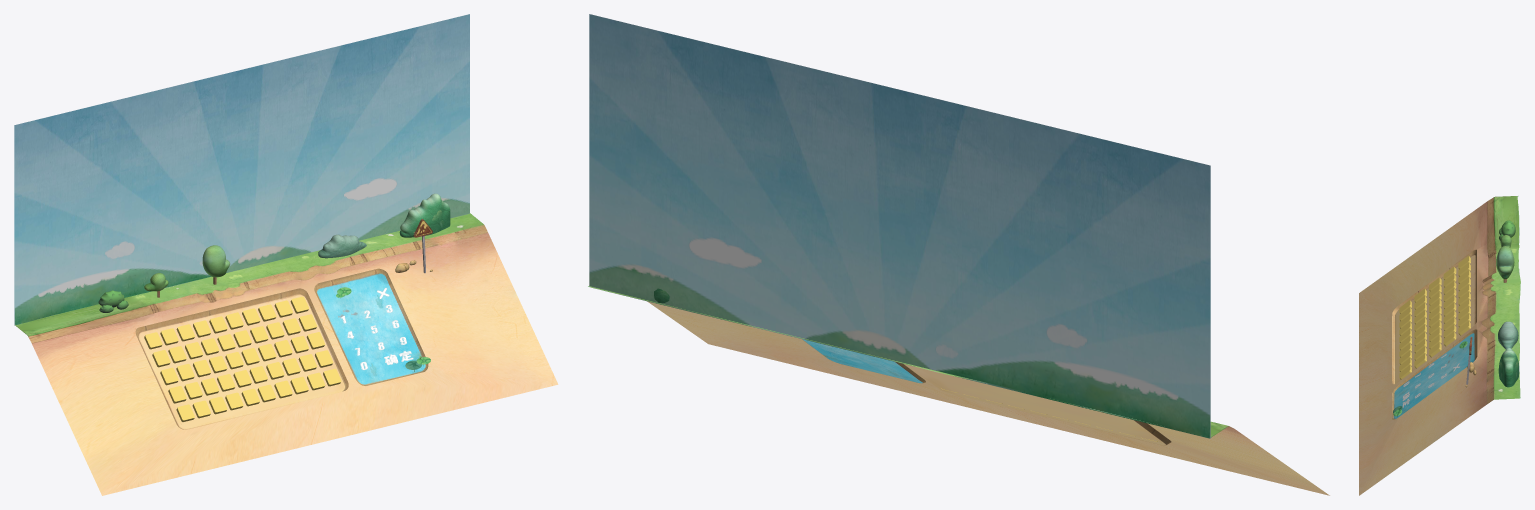
File: shuziban.FBX
3 views of the same model, side by side, from view 1: azimuth 30°, elevation 25°; view 2: azimuth 150°, elevation 25°; view 3: azimuth 270°, elevation 25° (orthographic). The views are drawn at different scales.
Visible parts, largest first — view 1: 对象280, Cylinder001, 对象285, 对象284, 对象283; view 2: 对象280, Cylinder001; view 3: Cylinder001, 对象285, 对象283, 对象284, 对象281.
Boxes of the visible parts, box(x1,y1,x2,y2) form: 对象280: box(14, 14, 469, 325); Cylinder001: box(15, 213, 558, 495); 对象285: box(399, 193, 450, 237); 对象284: box(318, 234, 366, 258); 对象283: box(202, 245, 229, 284); 对象280: box(589, 14, 1210, 438); Cylinder001: box(588, 286, 1329, 495); Cylinder001: box(1359, 196, 1520, 495); 对象285: box(1498, 348, 1519, 387); 对象283: box(1496, 246, 1514, 282); 对象284: box(1498, 321, 1518, 349); 对象281: box(1499, 220, 1515, 240).
Size of the model in its own units: 387 by 249 by 131.
1 material, 1 textured.
